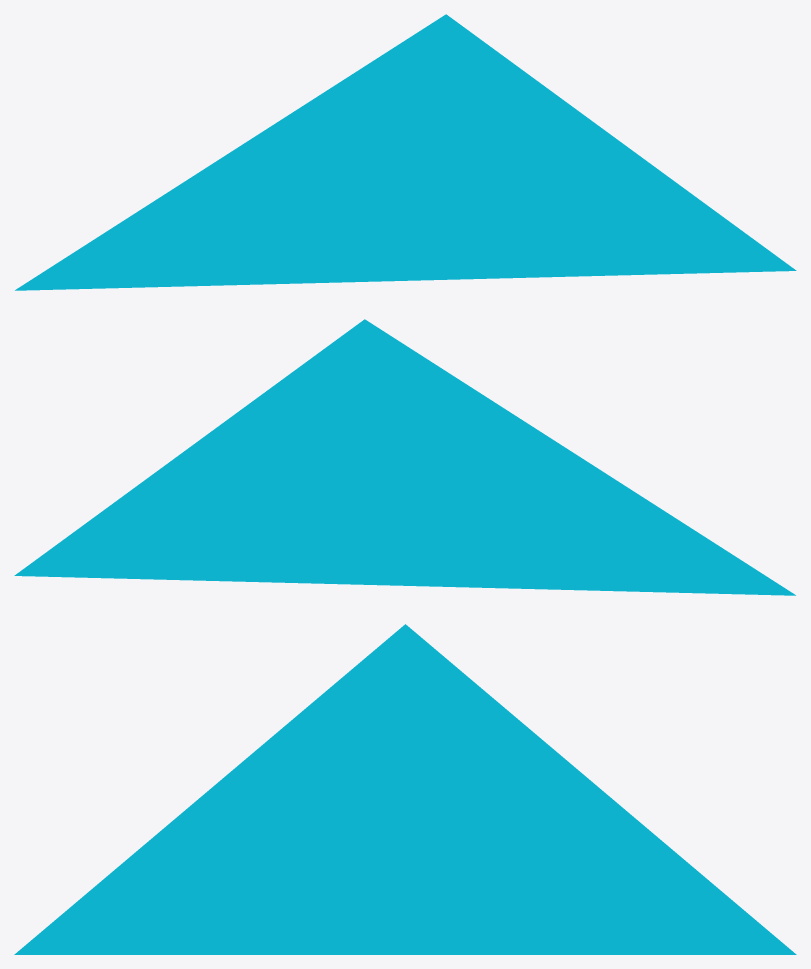
File: TriangleLid.fbx
3 views of the same model, one above another, from view 1: azimuth 30°, elevation 25°; view 2: azimuth 150°, elevation 25°; view 3: azimuth 270°, elevation 25° (orthographic). The views are drawn at different scales.
Parts seen in each view (by area): view 1: pCube28; view 2: pCube28; view 3: pCube28.
Boxes of the visible parts, left/top/right/bottom form: pCube28: left=15, top=14, right=796, bottom=290; pCube28: left=14, top=319, right=795, bottom=595; pCube28: left=14, top=624, right=796, bottom=954.
Size of the model in its own units: 2.71 by 0 by 2.71.
